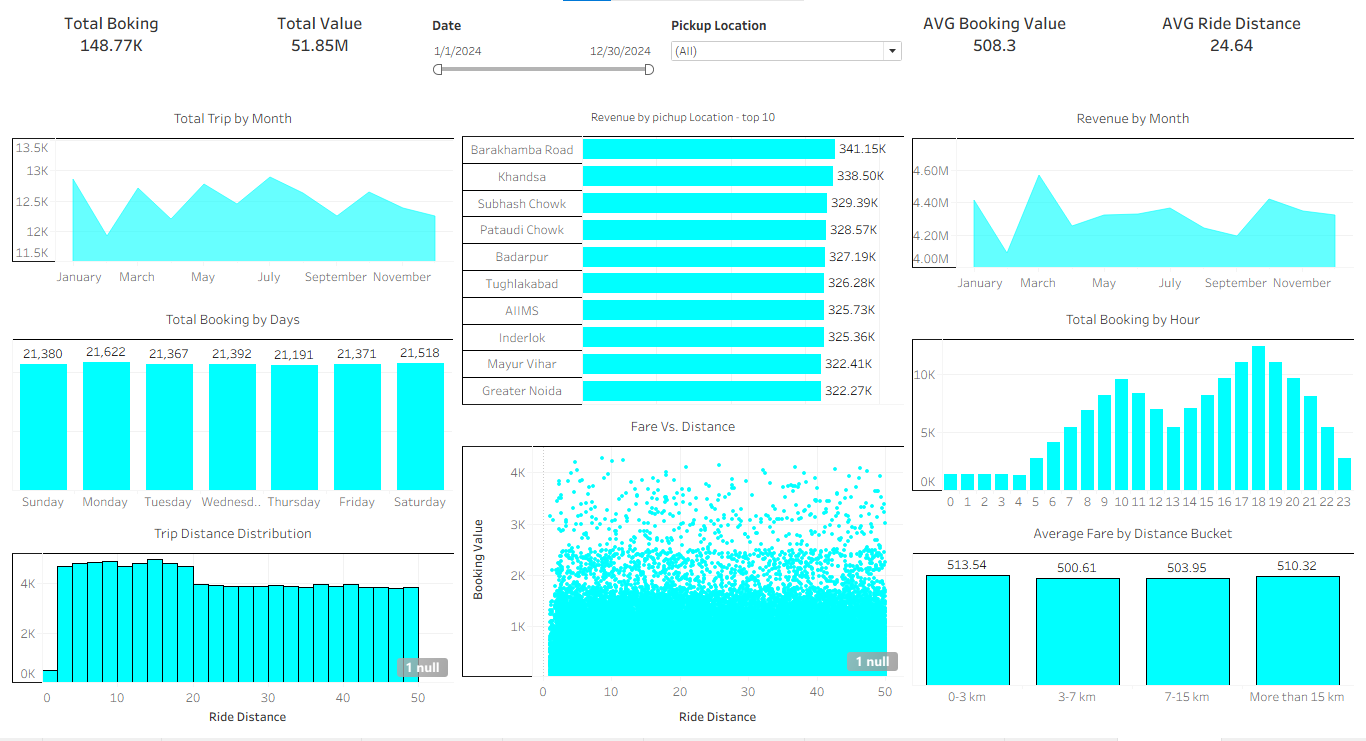

The dashboard page shown, as its layout file describes it:
{"tool":"tableau","page":{"name":"Dashboard 1","canvas":[1000,1000],"units":"permille","ordinal":0},"visuals":[{"type":"worksheet","title":"Total Boking","mark":"Automatic","box":[7.3,12.7,151.7,125.8]},{"type":"worksheet","title":"Total Value","mark":"Automatic","box":[159,12.7,151.8,125.8]},{"type":"filter","title":"Avg Ride Distance","param":"[federated.1a7u6ns1yendht112f9my0cern8g].[none:Date:qk]","box":[310.8,12.7,174.8,125.8]},{"type":"filter","title":"Avg Ride Distance","param":"[federated.1a7u6ns1yendht112f9my0cern8g].[none:Pickup Location:nk]","box":[485.6,12.7,180.6,96.5]},{"type":"worksheet","title":"Avg Booking Value","mark":"Automatic","box":[666.2,12.7,143.1,125.8]},{"type":"worksheet","title":"Avg Ride Distance","mark":"Automatic","box":[809.2,12.7,183.5,125.8]},{"type":"worksheet","title":"Total Trip by Month","mark":"Area","rows":["Calculation_1737564597448707"],"cols":["Date"],"box":[7.3,138.4,328.4,271.8]},{"type":"worksheet","title":"Revenue by pichup Location - top 10","mark":"Automatic","rows":["Pickup Location"],"cols":["Booking Value"],"box":[335.7,138.4,328.5,416]},{"type":"worksheet","title":"Revenue by Month","mark":"Area","rows":["Booking Value"],"cols":["Date"],"box":[664.2,138.4,328.5,271.8]},{"type":"worksheet","title":"Total Booking by Days","mark":"Bar","rows":["Calculation_1737564597448707"],"cols":["Calculation_1737564595638273"],"box":[7.3,410.2,328.4,288.6]},{"type":"worksheet","title":"Total Booking by Hour","mark":"Bar","rows":["Calculation_1737564597448707"],"cols":["Time"],"box":[664.2,410.2,328.5,288.6]},{"type":"worksheet","title":"Fare Vs. Distance","mark":"Automatic","rows":["Booking Value"],"cols":["Ride Distance"],"box":[335.7,554.5,328.5,432.9]},{"type":"worksheet","title":"Trip Distance Distribution","mark":"Automatic","rows":["Ride Distance"],"cols":["Ride Distance (bin)"],"box":[7.3,698.7,328.4,288.6]},{"type":"worksheet","title":"Average Fare by Distance Bucket","mark":"Automatic","rows":["Booking Value"],"cols":["Calculation_1737564595793922"],"box":[664.2,698.7,328.5,288.6]}]}

Visuals, with their boxes on the dashboard's canvas, which has no fixed pixel size, in thousandths of its width and height (x1, y1, x2, y2). These are canvas units, not pixel positions in the 1366x741 screenshot, which may show the page scaled, cropped or inside an application window:
"Total Boking" worksheet: {"x1": 7, "y1": 13, "x2": 159, "y2": 138}
"Total Value" worksheet: {"x1": 159, "y1": 13, "x2": 311, "y2": 138}
"Avg Ride Distance" filter: {"x1": 311, "y1": 13, "x2": 486, "y2": 138}
"Avg Ride Distance" filter: {"x1": 486, "y1": 13, "x2": 666, "y2": 109}
"Avg Booking Value" worksheet: {"x1": 666, "y1": 13, "x2": 809, "y2": 138}
"Avg Ride Distance" worksheet: {"x1": 809, "y1": 13, "x2": 993, "y2": 138}
"Total Trip by Month" worksheet (Area marks): {"x1": 7, "y1": 138, "x2": 336, "y2": 410}
"Revenue by pichup Location - top 10" worksheet: {"x1": 336, "y1": 138, "x2": 664, "y2": 554}
"Revenue by Month" worksheet (Area marks): {"x1": 664, "y1": 138, "x2": 993, "y2": 410}
"Total Booking by Days" worksheet (Bar marks): {"x1": 7, "y1": 410, "x2": 336, "y2": 699}
"Total Booking by Hour" worksheet (Bar marks): {"x1": 664, "y1": 410, "x2": 993, "y2": 699}
"Fare Vs. Distance" worksheet: {"x1": 336, "y1": 554, "x2": 664, "y2": 987}
"Trip Distance Distribution" worksheet: {"x1": 7, "y1": 699, "x2": 336, "y2": 987}
"Average Fare by Distance Bucket" worksheet: {"x1": 664, "y1": 699, "x2": 993, "y2": 987}
